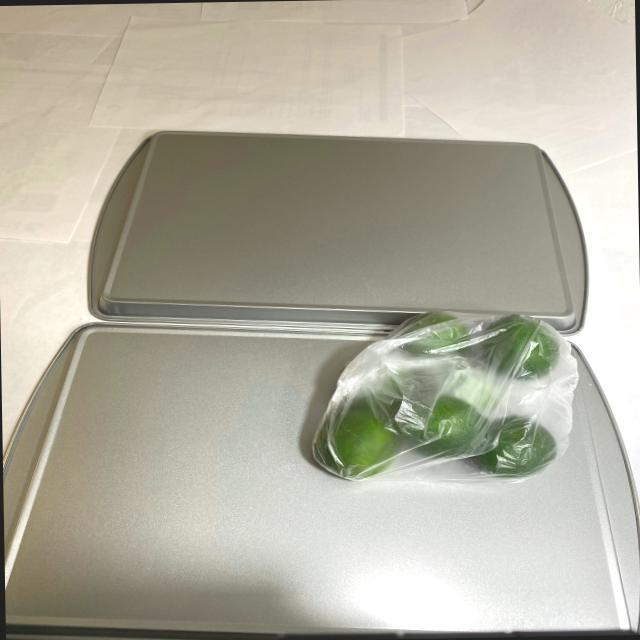lemon: (312, 310, 565, 478)
